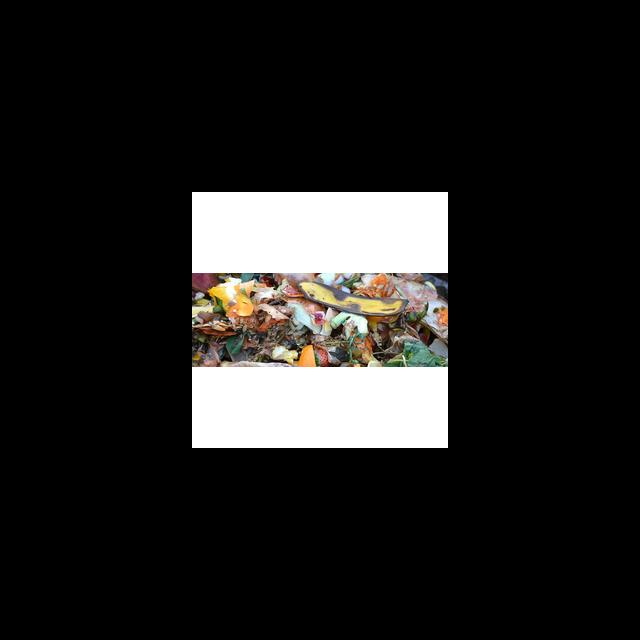food_waste: (193, 275, 448, 364)
